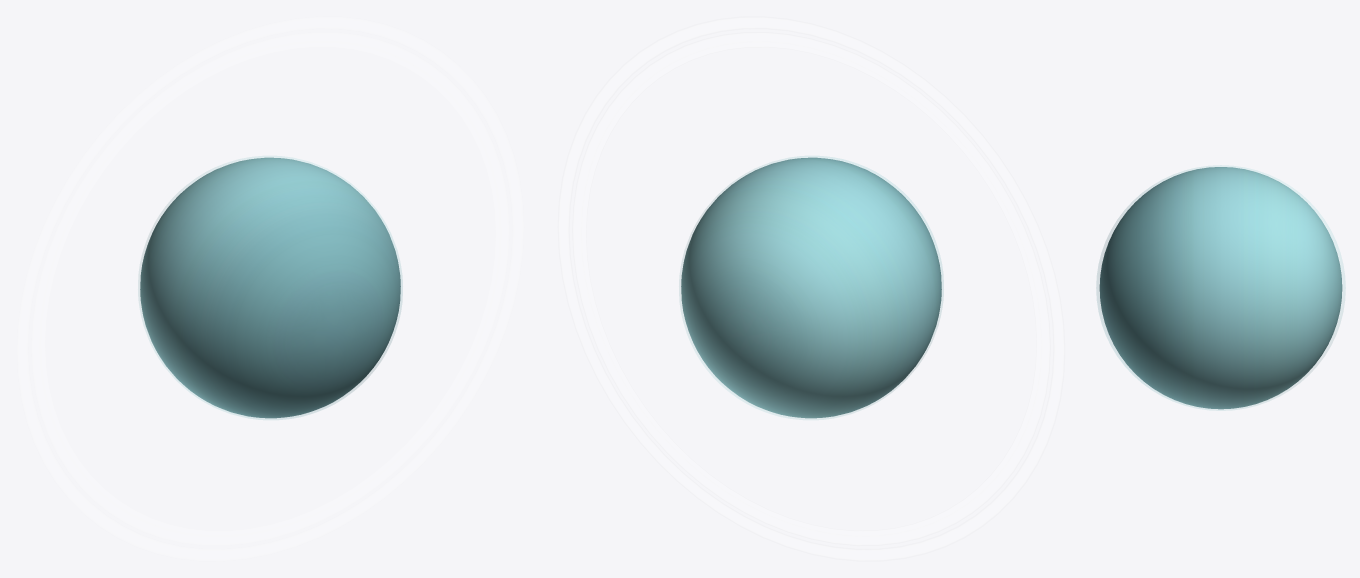
The model's file is Uranus.glb.
The picture shows the model from 3 angles, left to right: view 1: azimuth 30°, elevation 25°; view 2: azimuth 150°, elevation 25°; view 3: azimuth 270°, elevation 25°; orthographic projection. The views are drawn at different scales.
Visible parts, largest first — view 1: Uranus_1_0, Uranus_clouds, Ring; view 2: Uranus_1_0, Ring, Uranus_clouds; view 3: Uranus_1_0, Uranus_clouds.
Boxes of the visible parts, x1,y1,x2,y2 form: Uranus_1_0: [140, 157, 400, 418]; Uranus_clouds: [170, 176, 402, 419]; Ring: [18, 18, 522, 559]; Uranus_1_0: [681, 157, 941, 418]; Ring: [559, 18, 1063, 559]; Uranus_clouds: [787, 156, 943, 352]; Uranus_1_0: [1099, 167, 1342, 409]; Uranus_clouds: [1096, 168, 1198, 407].
Size of the model in its own units: 3.43 by 3.43 by 1.56.
3 materials, 3 textured.
